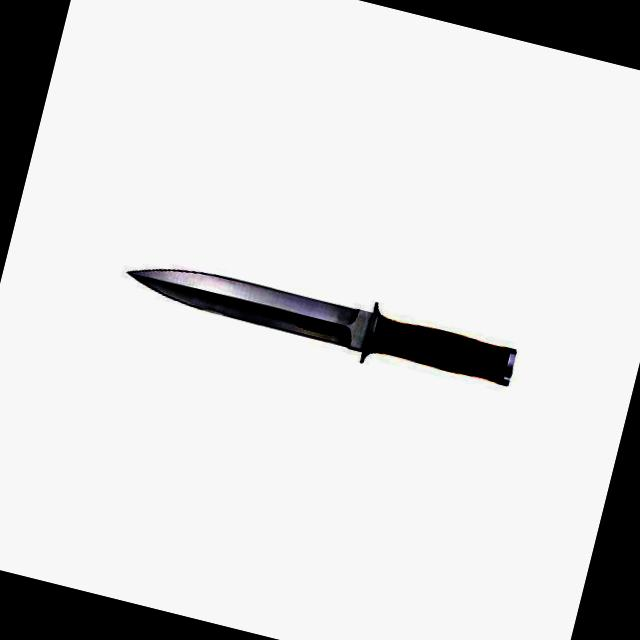short sword: (94, 222, 550, 431)
